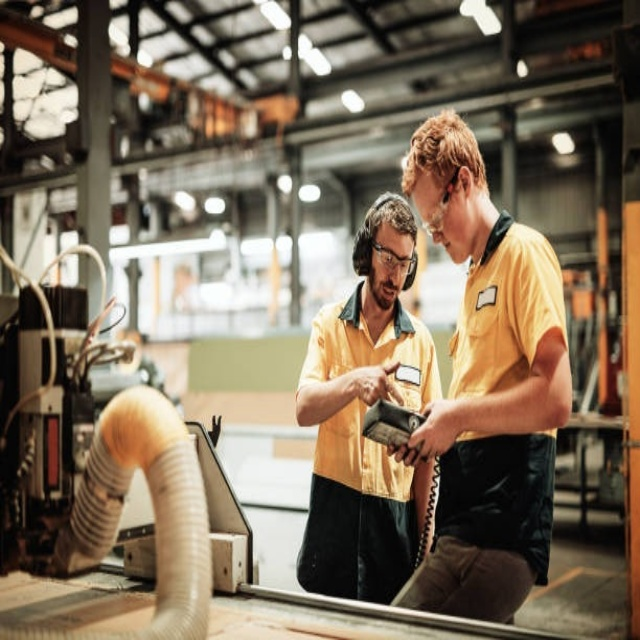Gafas: (421, 174, 459, 234), (372, 239, 415, 276)
Sin_guantes: (392, 403, 449, 467), (356, 359, 405, 408)
Sin_mascara: (434, 234, 463, 264), (375, 281, 401, 309)
